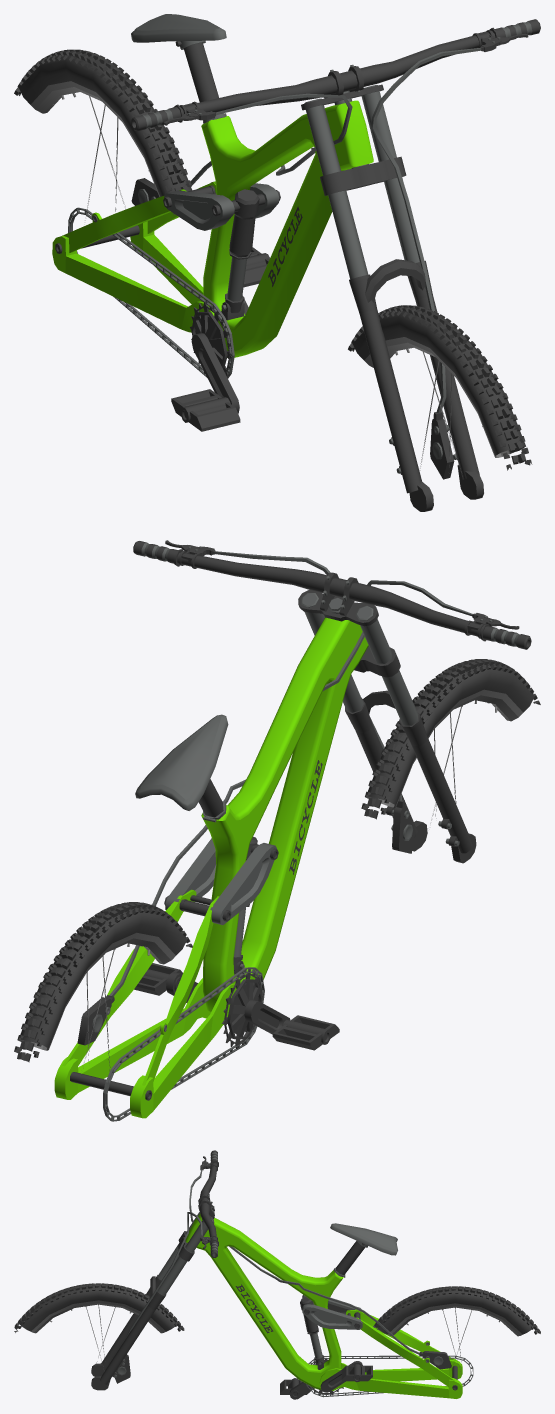
File: body.glb
3 views of the same model, one above another, from view 1: azimuth 30°, elevation 25°; view 2: azimuth 150°, elevation 25°; view 3: azimuth 270°, elevation 25° (orthographic). The views are drawn at different scales.
Parts seen in each view (by area): view 1: Wheel_B_Textures_0, Body_Mat Body_0, Wheel_B_Mat Wheel_0; view 2: Wheel_B_Textures_0, Body_Mat Body_0, Wheel_B_Mat Wheel_0; view 3: Wheel_B_Textures_0, Body_Mat Body_0, Wheel_B_Mat Wheel_0.
Part boxes in pixels (x1,y1,x2,y2): Wheel_B_Textures_0: [14, 14, 540, 511]; Body_Mat Body_0: [52, 100, 373, 357]; Wheel_B_Mat Wheel_0: [30, 81, 513, 473]; Wheel_B_Textures_0: [14, 540, 540, 1121]; Body_Mat Body_0: [54, 617, 368, 1118]; Wheel_B_Mat Wheel_0: [31, 689, 523, 1071]; Wheel_B_Textures_0: [14, 1150, 540, 1399]; Body_Mat Body_0: [185, 1214, 462, 1398]; Wheel_B_Mat Wheel_0: [31, 1300, 522, 1374].
Size of the model in its own units: 0.5852 by 0.5581 by 1.28.
Materials: 3 (1 with a texture image).
